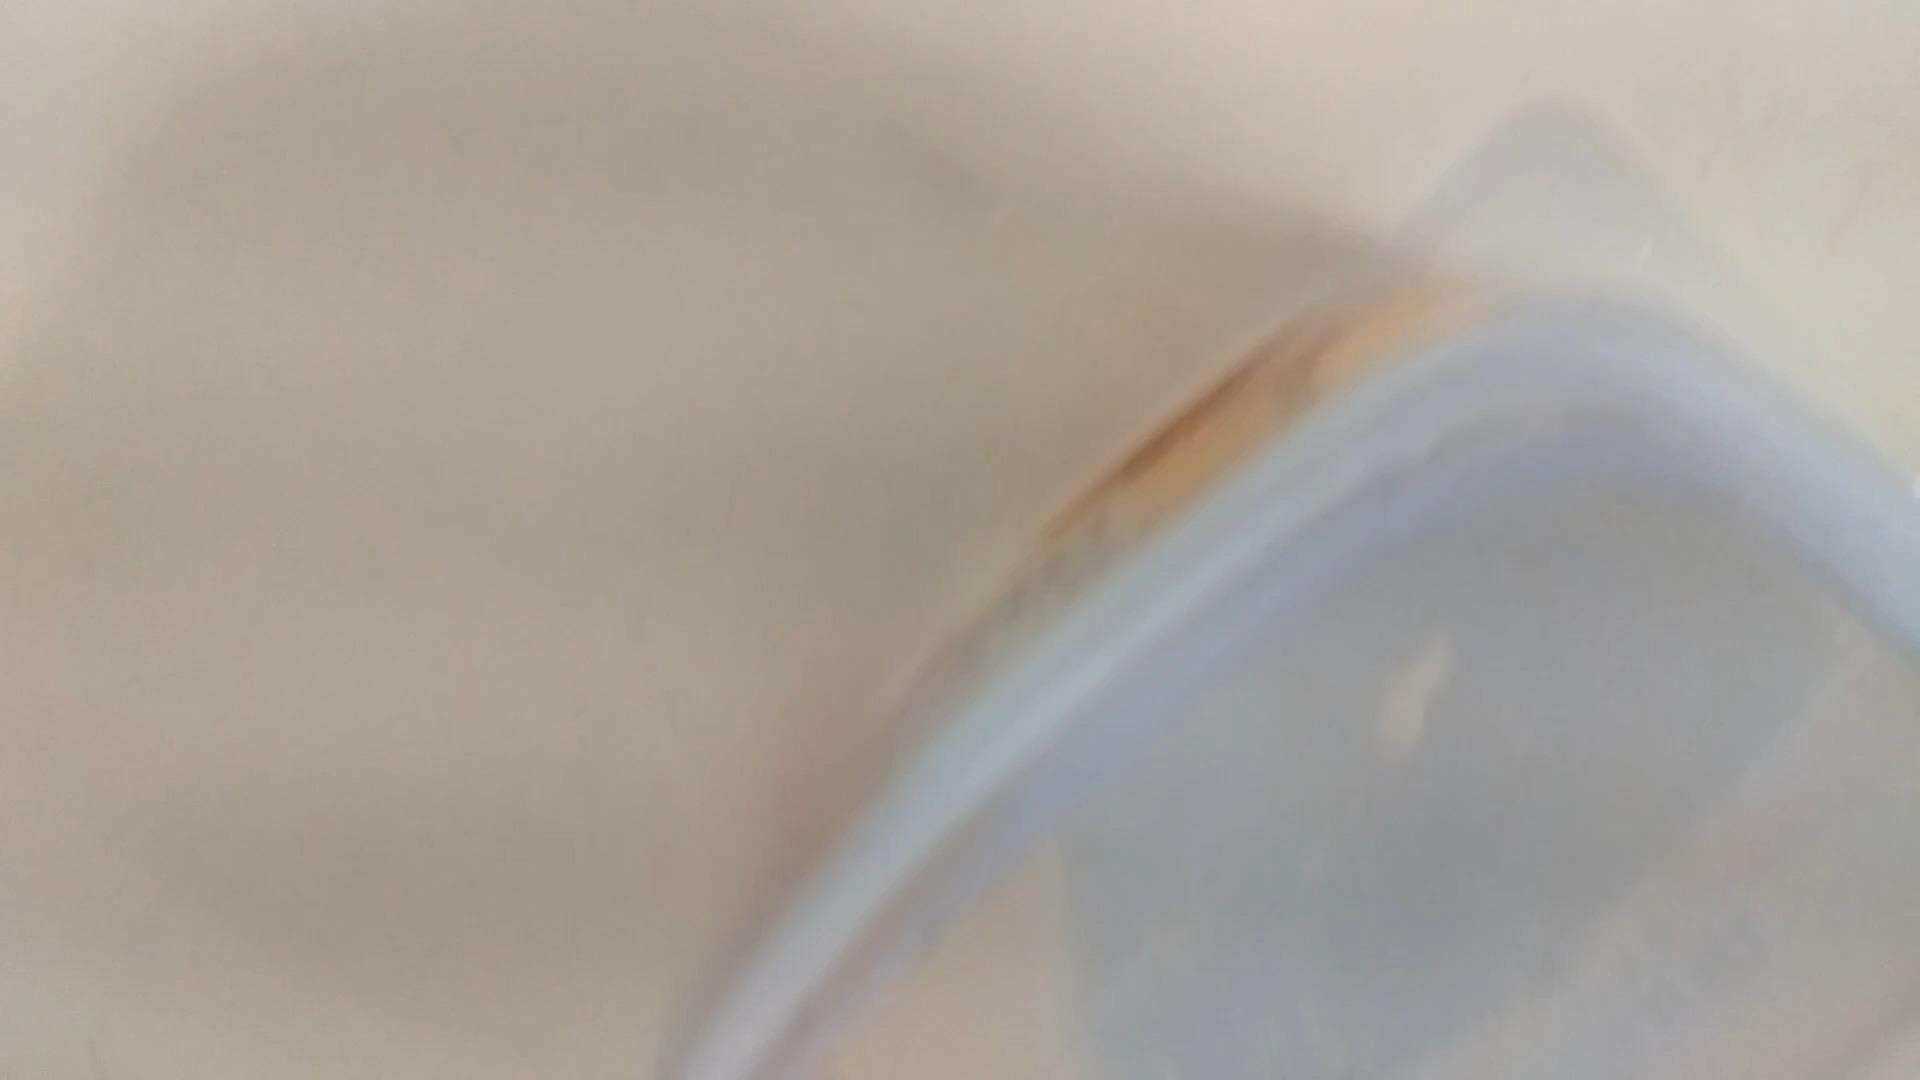butter: (644, 123, 1920, 1077)
